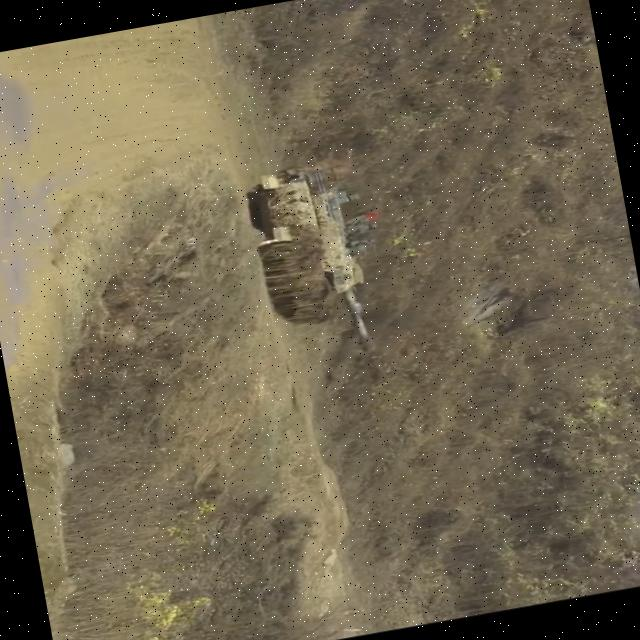korea tank: (238, 151, 411, 401)
